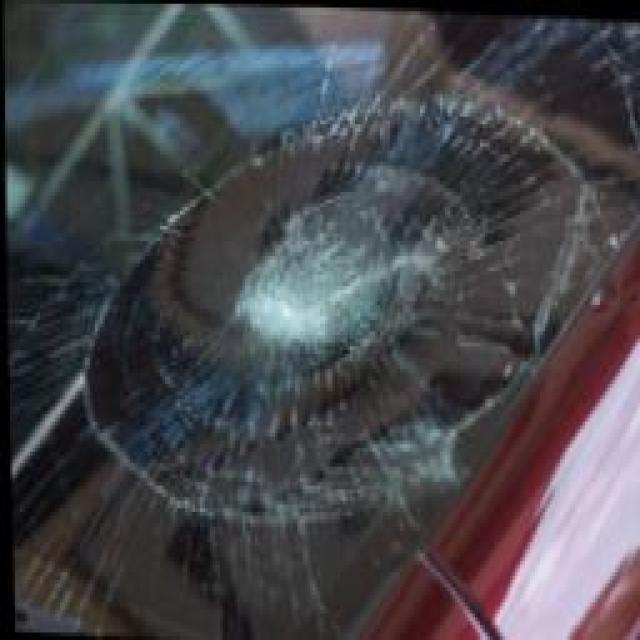Windshield: (18, 0, 640, 617)
